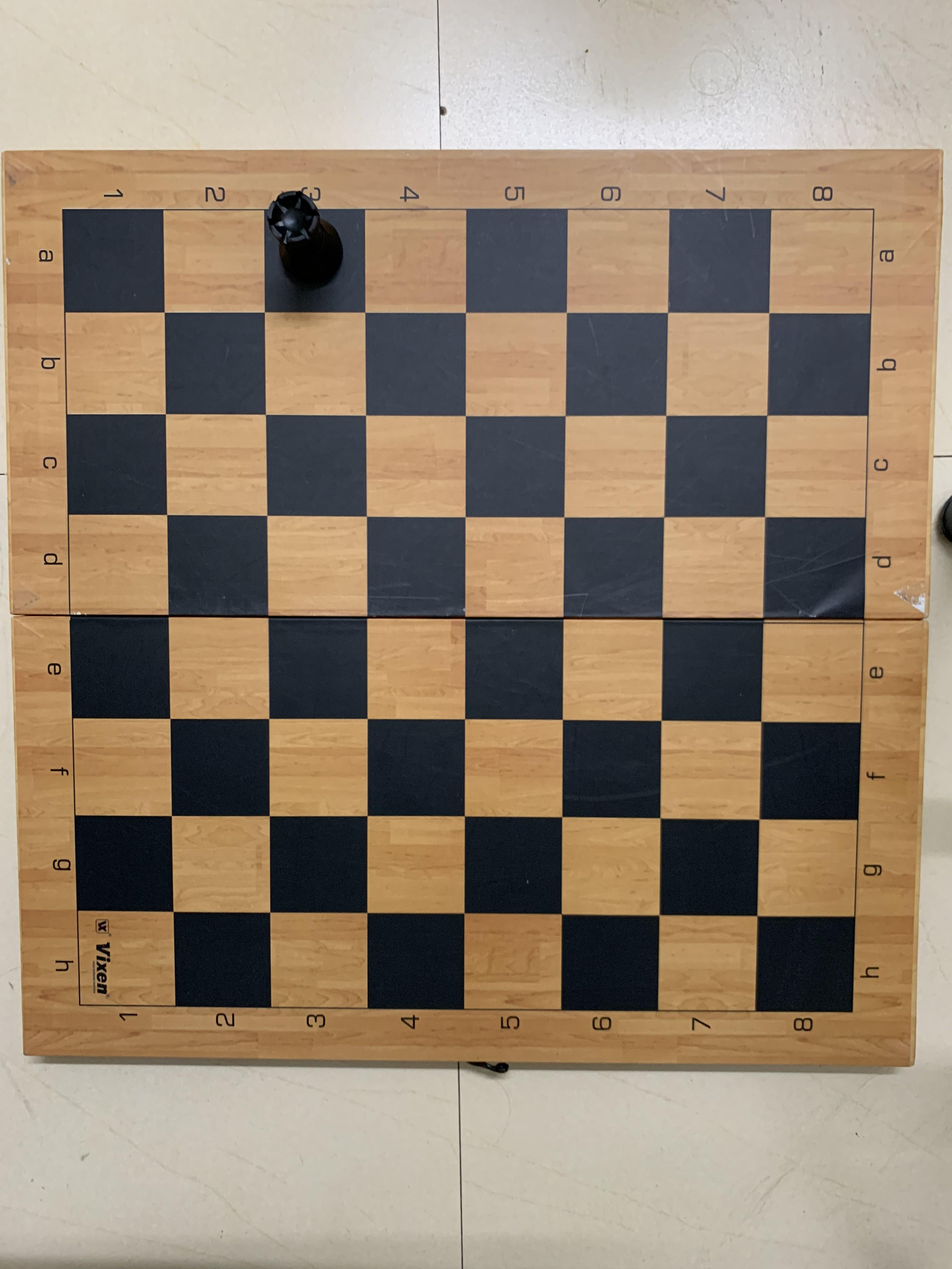black_rook: (258, 188, 370, 317)
